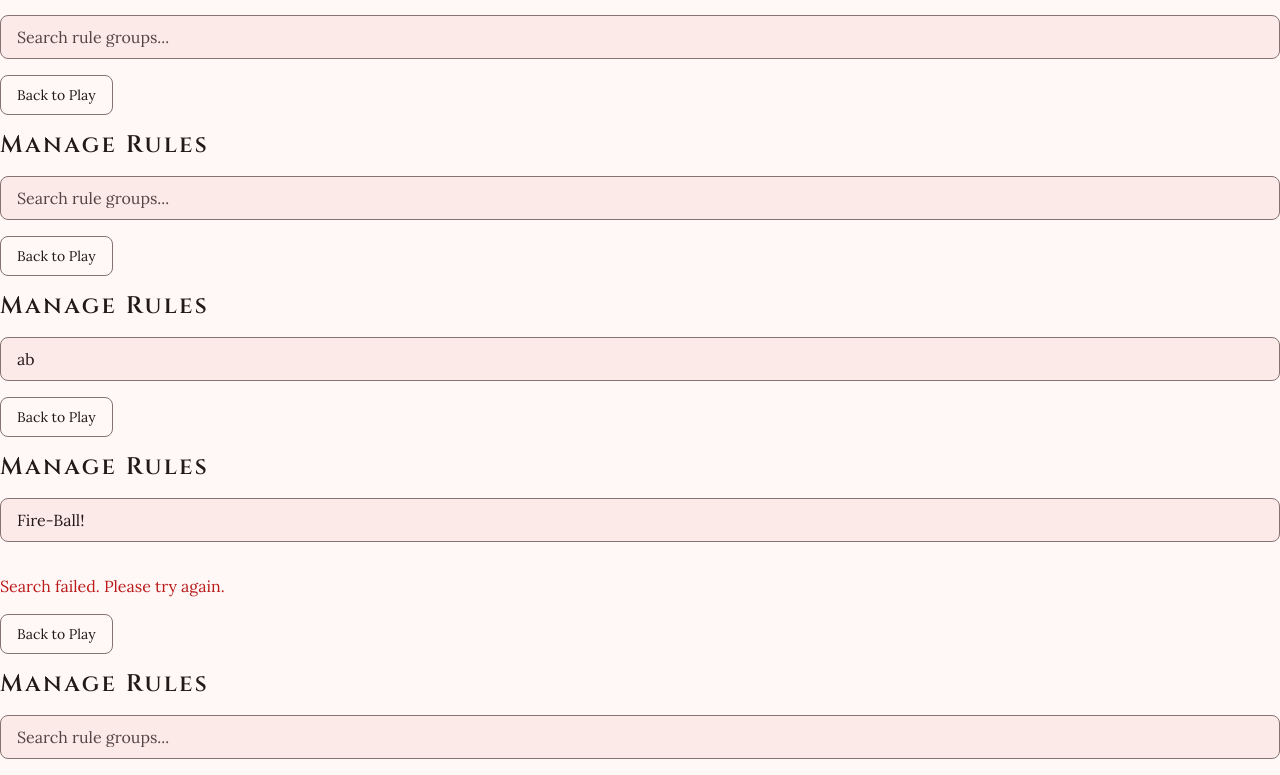
Test case: ManageRulesMode › displays search results
(page scrolled)
Type "fir" into the 3rd field with placeholder "Search rule groups..." at (640, 737), box x1=0 y1=715 x2=1279 y2=759
Wait 300 ms
(page scrolled)
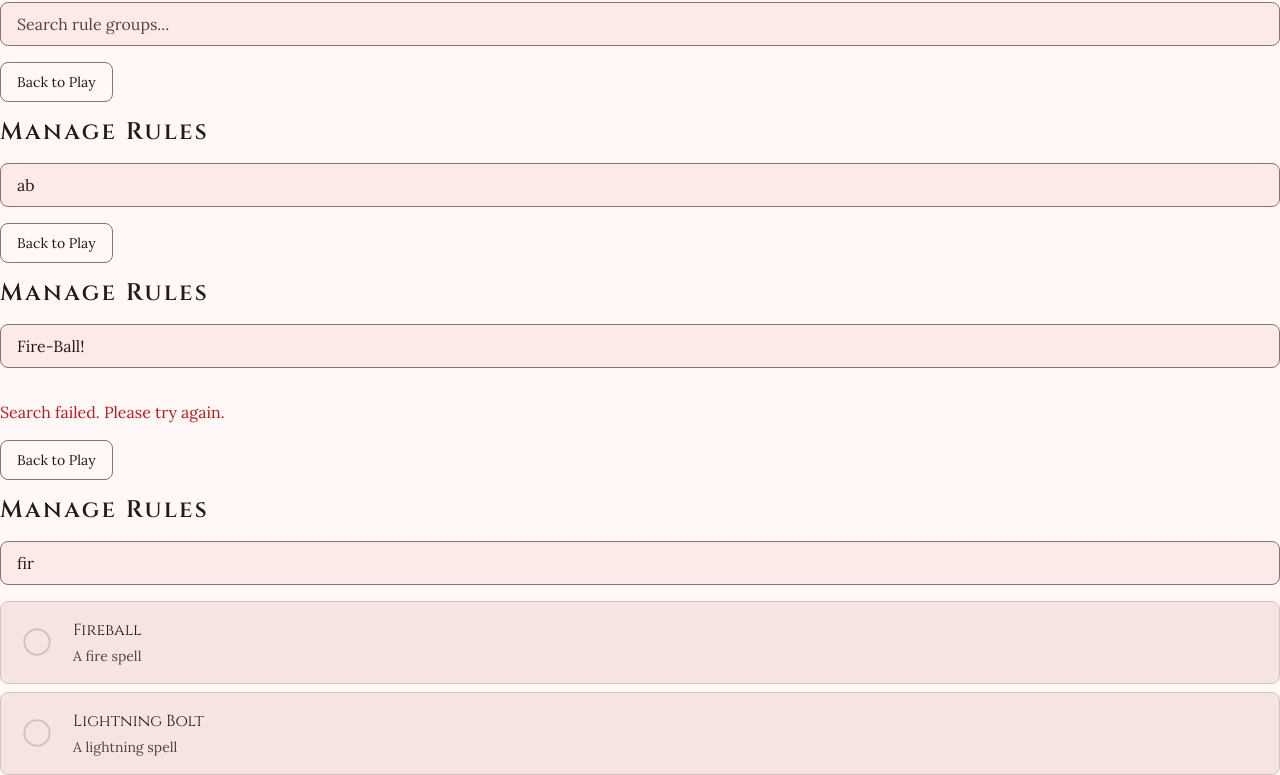
expect the number of elements with class "manage-rules__panel" is 2: met, box x1=0 y1=601 x2=1279 y2=684; x1=0 y1=692 x2=1279 y2=774
expect the element with class "manage-rules__panel" shows "Fireball": met, box x1=73 y1=619 x2=142 y2=641
expect the element with class "manage-rules__panel" shows "Lightning Bolt": met, box x1=73 y1=710 x2=204 y2=732
